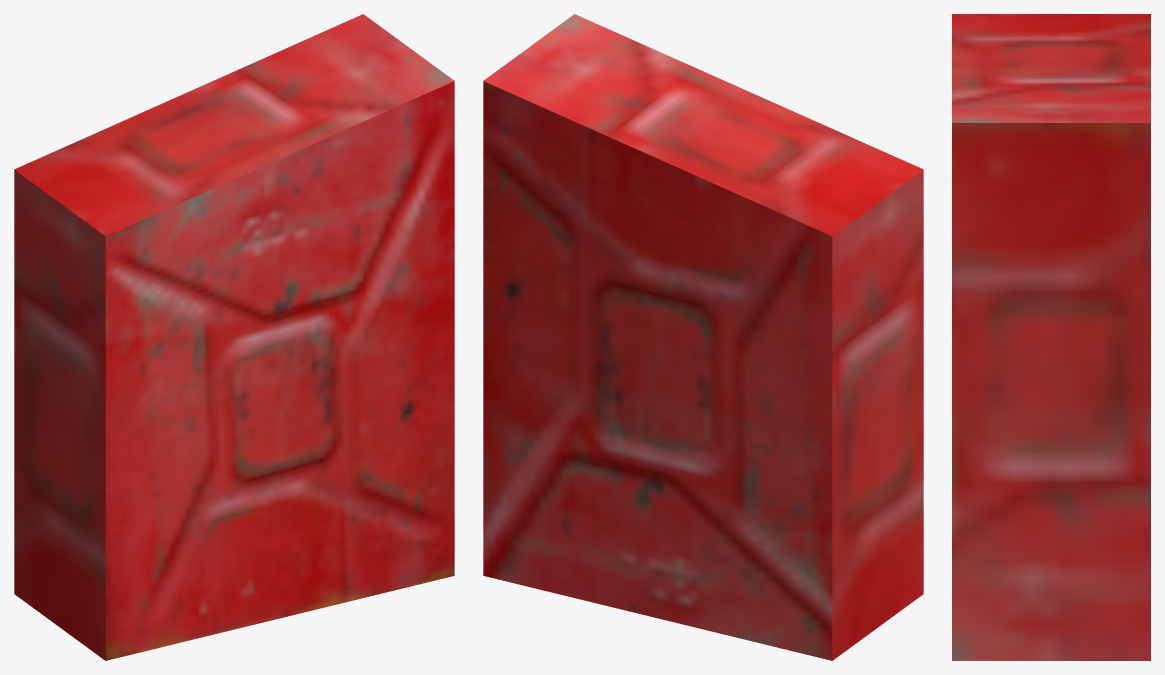
File: GasTank.fbx
3 views of the same model, side by side, from view 1: azimuth 30°, elevation 25°; view 2: azimuth 150°, elevation 25°; view 3: azimuth 270°, elevation 25° (orthographic). The views are drawn at different scales.
Visible parts, largest first — view 1: GasTank; view 2: GasTank; view 3: GasTank.
Part boxes in pixels (bbox=[...]): GasTank: bbox=[14, 14, 454, 660]; GasTank: bbox=[483, 14, 923, 660]; GasTank: bbox=[952, 14, 1150, 660].
Bounding box in the file's own units: 226 × 307 × 103.
